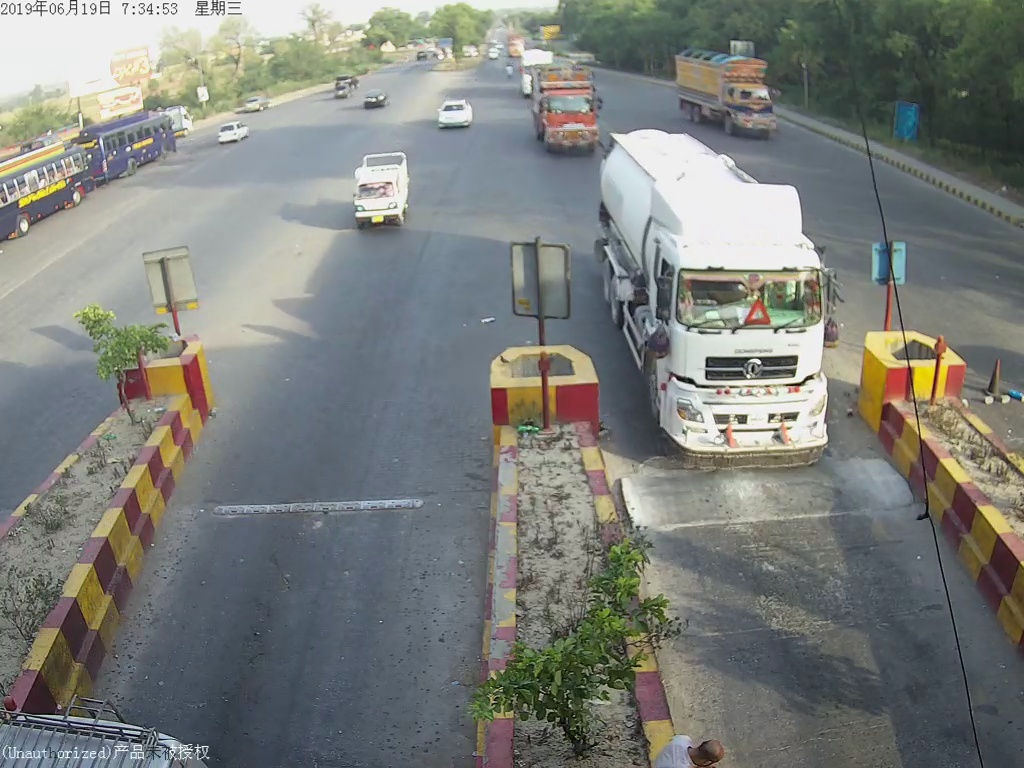Cat-1: (348, 157, 415, 232)
Cat-4: (600, 137, 829, 466)
